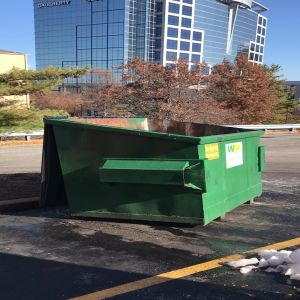Dumpster: (40, 113, 268, 231)
